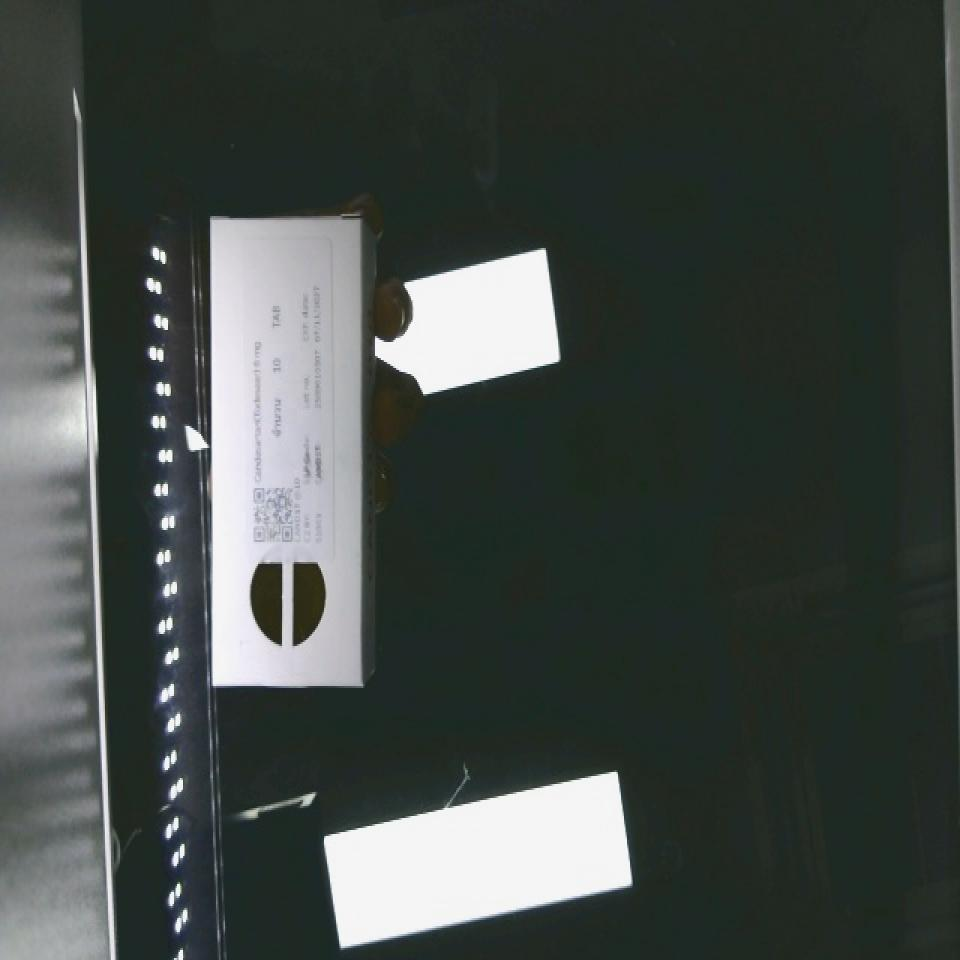medicine_box: (205, 216, 361, 684)
qr_code: (237, 474, 309, 556)
